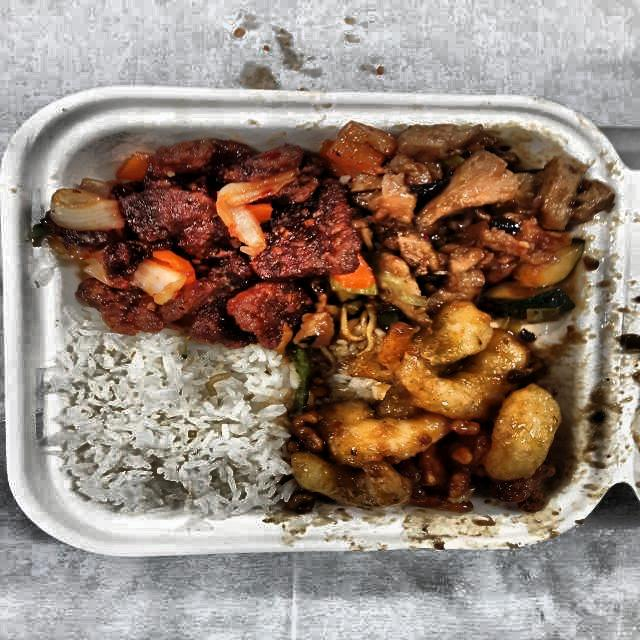Food: (46, 126, 353, 344), (328, 118, 602, 342), (292, 302, 578, 516), (59, 343, 282, 513)
